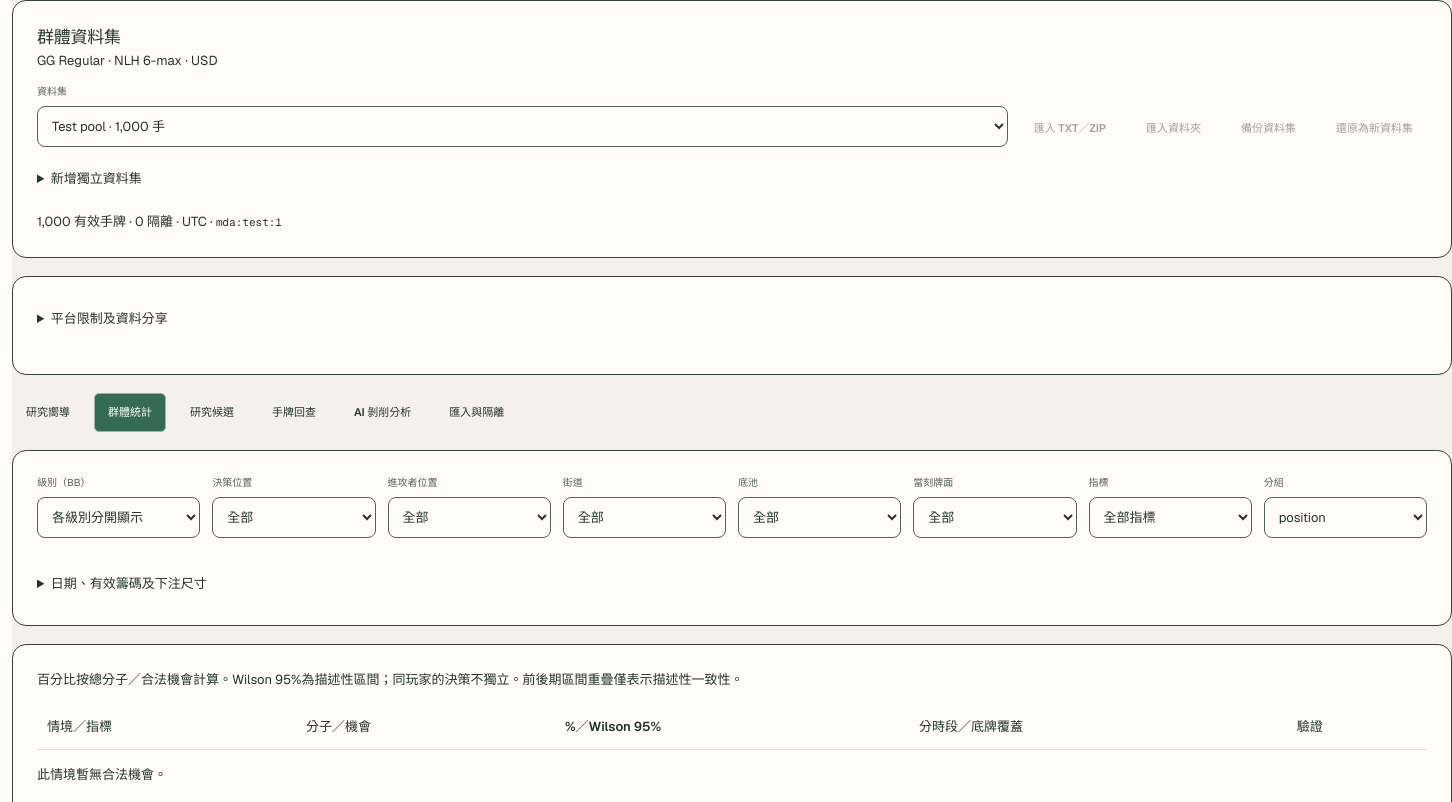
Test: keeps datasets separate, pins queries and requires dataset cloud consent
Check: the text "1,000 有效手牌" is shown, box [37,212,179,230]
Click the button "AI 剝削分析".
click(383, 412)  # box [340,393,425,432]
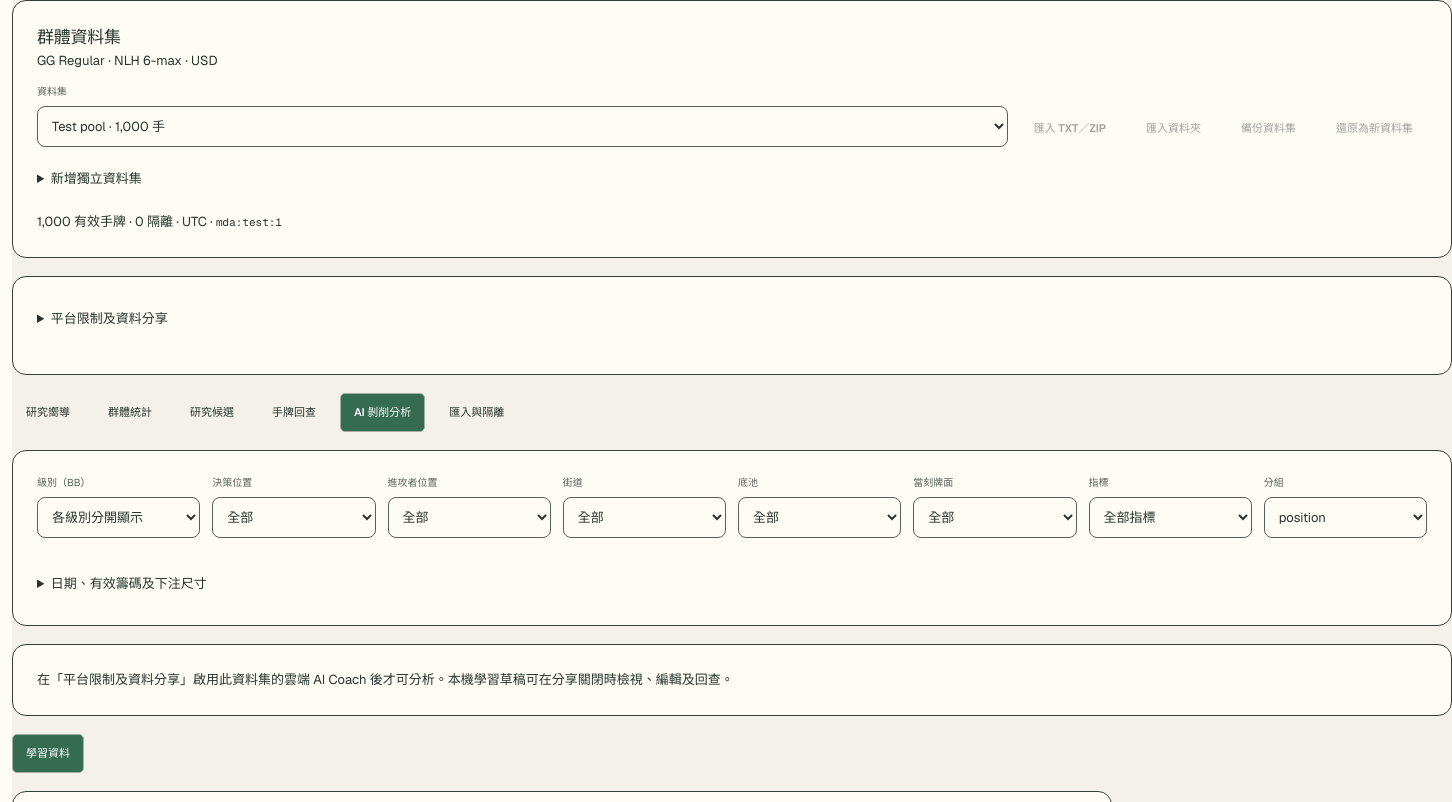
Check: the text "在「平台限制及資料分享」" is shown, box [37,671,734,688]
